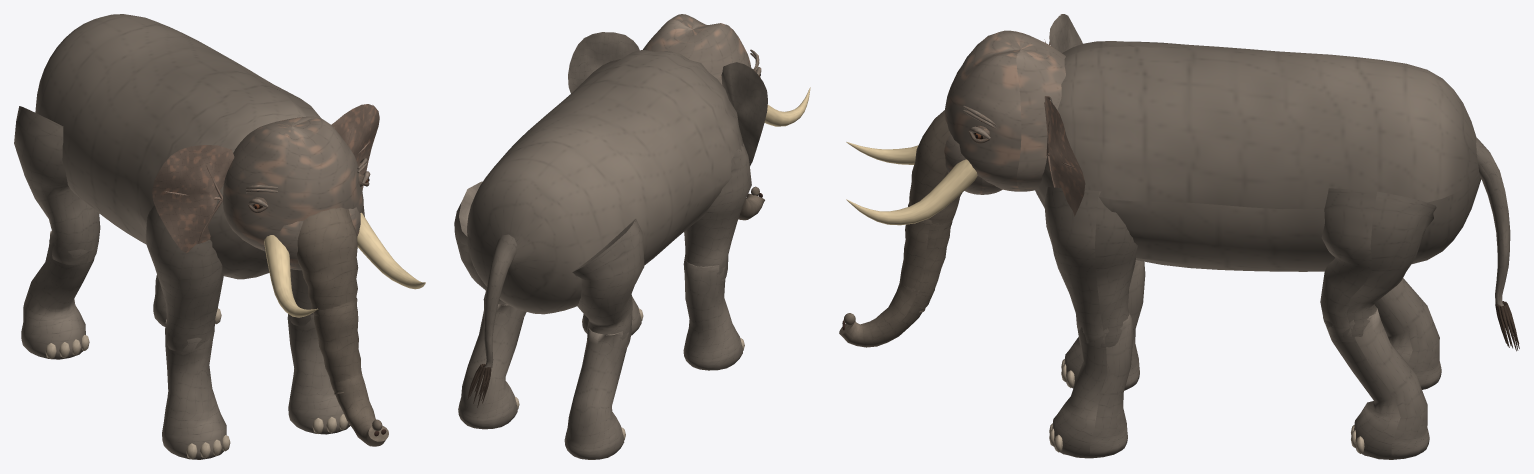
The model's file is elephant-street.glb.
3 views of the same model, side by side, from view 1: azimuth 30°, elevation 25°; view 2: azimuth 150°, elevation 25°; view 3: azimuth 270°, elevation 25° (orthographic). The views are drawn at different scales.
Visible parts, largest first — view 1: BodyPivot, HeadGroup, LegBR, LegFR, KneeFR, EarR, KneeBR, TrunkBase, KneeFL, TrunkMid, TrunkTip, EarL (+2 smaller); view 2: BodyPivot, KneeBR, LegBR, KneeFR, KneeBL, HeadGroup, LegFR, EarR, TailPivot, EarL, LegBL, TrunkTip (+1 smaller); view 3: BodyPivot, HeadGroup, LegBL, LegFL, KneeBL, KneeFL, KneeBR, TrunkMid, TailPivot, TrunkBase, TrunkTip, EarL (+2 smaller).
Part boxes in pixels (x1,y1,x2,y2): BodyPivot: [35, 14, 321, 279]; HeadGroup: [223, 116, 425, 317]; LegBR: [14, 106, 100, 264]; LegFR: [145, 205, 223, 354]; KneeFR: [162, 319, 230, 459]; EarR: [152, 145, 234, 252]; KneeBR: [21, 231, 97, 359]; TrunkBase: [297, 207, 358, 316]; KneeFL: [287, 314, 350, 434]; TrunkMid: [314, 297, 362, 394]; TrunkTip: [334, 368, 388, 446]; EarL: [331, 104, 379, 190]; BodyPivot: [467, 50, 743, 314]; KneeBR: [564, 328, 628, 459]; LegBR: [572, 219, 644, 349]; KneeFR: [683, 261, 744, 370]; KneeBL: [458, 298, 523, 429]; HeadGroup: [643, 14, 810, 126]; LegFR: [683, 142, 751, 281]; EarR: [721, 62, 767, 165]; TailPivot: [467, 234, 517, 407]; EarL: [568, 32, 639, 93]; LegBL: [454, 181, 526, 319]; TrunkTip: [738, 186, 764, 220]; BodyPivot: [1035, 41, 1481, 271]; HeadGroup: [846, 30, 1065, 225]; LegBL: [1320, 188, 1436, 342]; LegFL: [1044, 187, 1137, 348]; KneeBL: [1323, 306, 1429, 459]; KneeFL: [1049, 312, 1133, 458]; KneeBR: [1374, 278, 1441, 389]; TrunkMid: [899, 202, 952, 312]; TailPivot: [1476, 137, 1519, 351]; TrunkBase: [909, 110, 961, 229]; TrunkTip: [839, 283, 934, 347]; EarL: [1044, 96, 1085, 216].
Size of the model in its own units: 1.74 by 2.51 by 4.19.
2 materials, 2 textured.
